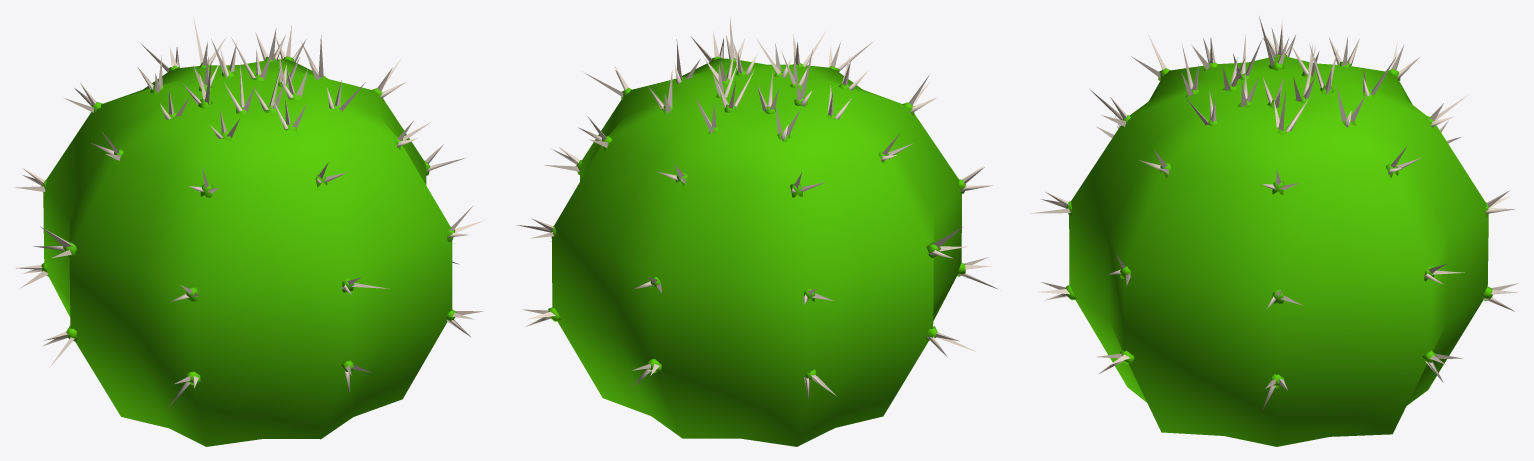
The model's file is Plant_barrel_cactusV1.fbx.
3 renders of one model, left to right at view 1: azimuth 30°, elevation 25°; view 2: azimuth 150°, elevation 25°; view 3: azimuth 270°, elevation 25°, orthographic. The views are drawn at different scales.
Parts seen in each view (by area): view 1: pCylinder1; view 2: pCylinder1; view 3: pCylinder1.
Boxes of the visible parts, bbox=[...] form: pCylinder1: bbox=[43, 59, 452, 446]; pCylinder1: bbox=[551, 58, 961, 446]; pCylinder1: bbox=[1069, 56, 1488, 446].
Bounding box in the file's own units: 97.74 × 79.84 × 95.81.
